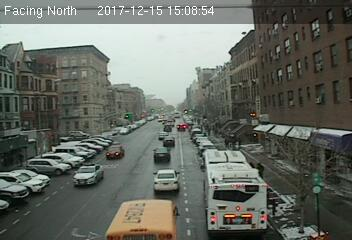bus: (202, 150, 271, 236)
car: (152, 168, 181, 193), (105, 144, 123, 160), (151, 147, 170, 159), (163, 136, 176, 145), (157, 131, 168, 140), (177, 123, 186, 131)
police: (72, 162, 102, 187)
truck: (103, 199, 176, 240)
